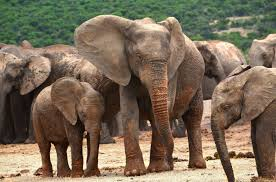Elephant: (75, 11, 210, 172)
